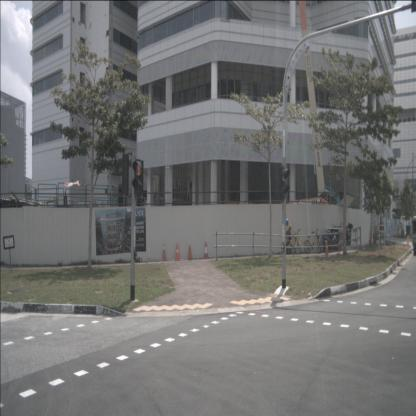movable_object-trafficcone: (187, 243, 193, 260), (324, 240, 330, 257), (204, 241, 209, 259), (162, 243, 167, 261), (175, 242, 180, 260), (406, 235, 410, 246), (369, 233, 371, 245), (373, 233, 375, 244)
vehicle-bicycle: (285, 228, 302, 254), (304, 229, 321, 253)
vehicle-motorcycle: (322, 222, 342, 253), (343, 224, 353, 245)
